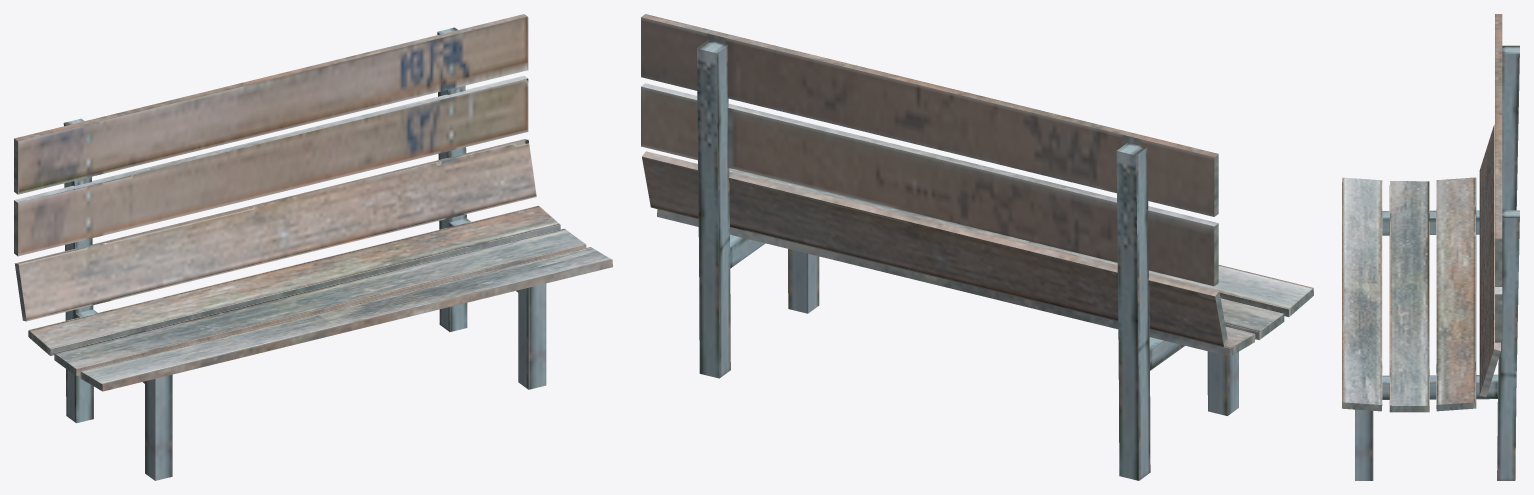
File: Bench01.obj
3 views of the same model, side by side, from view 1: azimuth 30°, elevation 25°; view 2: azimuth 150°, elevation 25°; view 3: azimuth 270°, elevation 25° (orthographic). The views are drawn at different scales.
Visible parts, largest first — view 1: Bench01; view 2: Bench01; view 3: Bench01.
Part boxes in pixels (x1=…): Bench01: x1=14, y1=14, x2=612, y2=480; Bench01: x1=641, y1=14, x2=1313, y2=480; Bench01: x1=1342, y1=14, x2=1519, y2=480.
Size of the model in its own units: 3 by 1.67 by 1.
